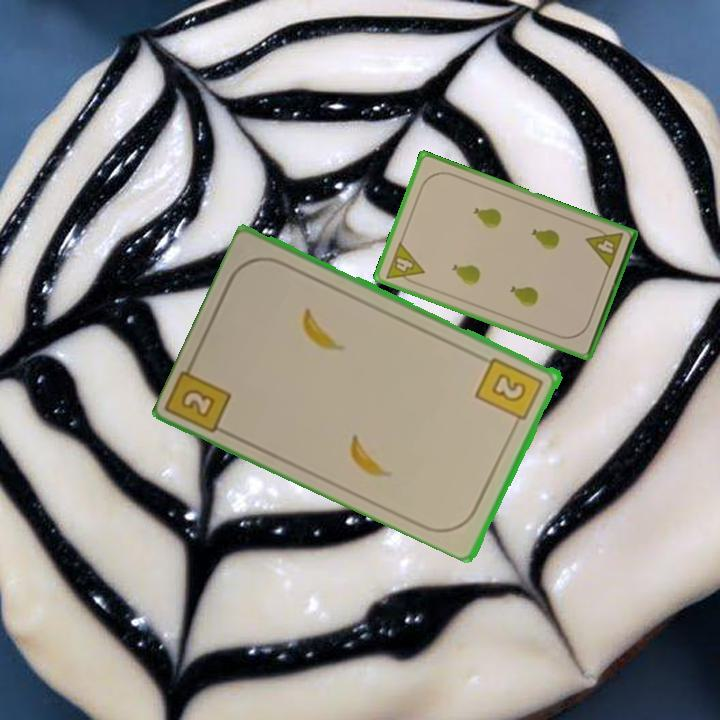2b: (473, 353, 547, 430), (177, 385, 219, 421)
4p: (382, 238, 427, 289), (582, 223, 626, 273)
